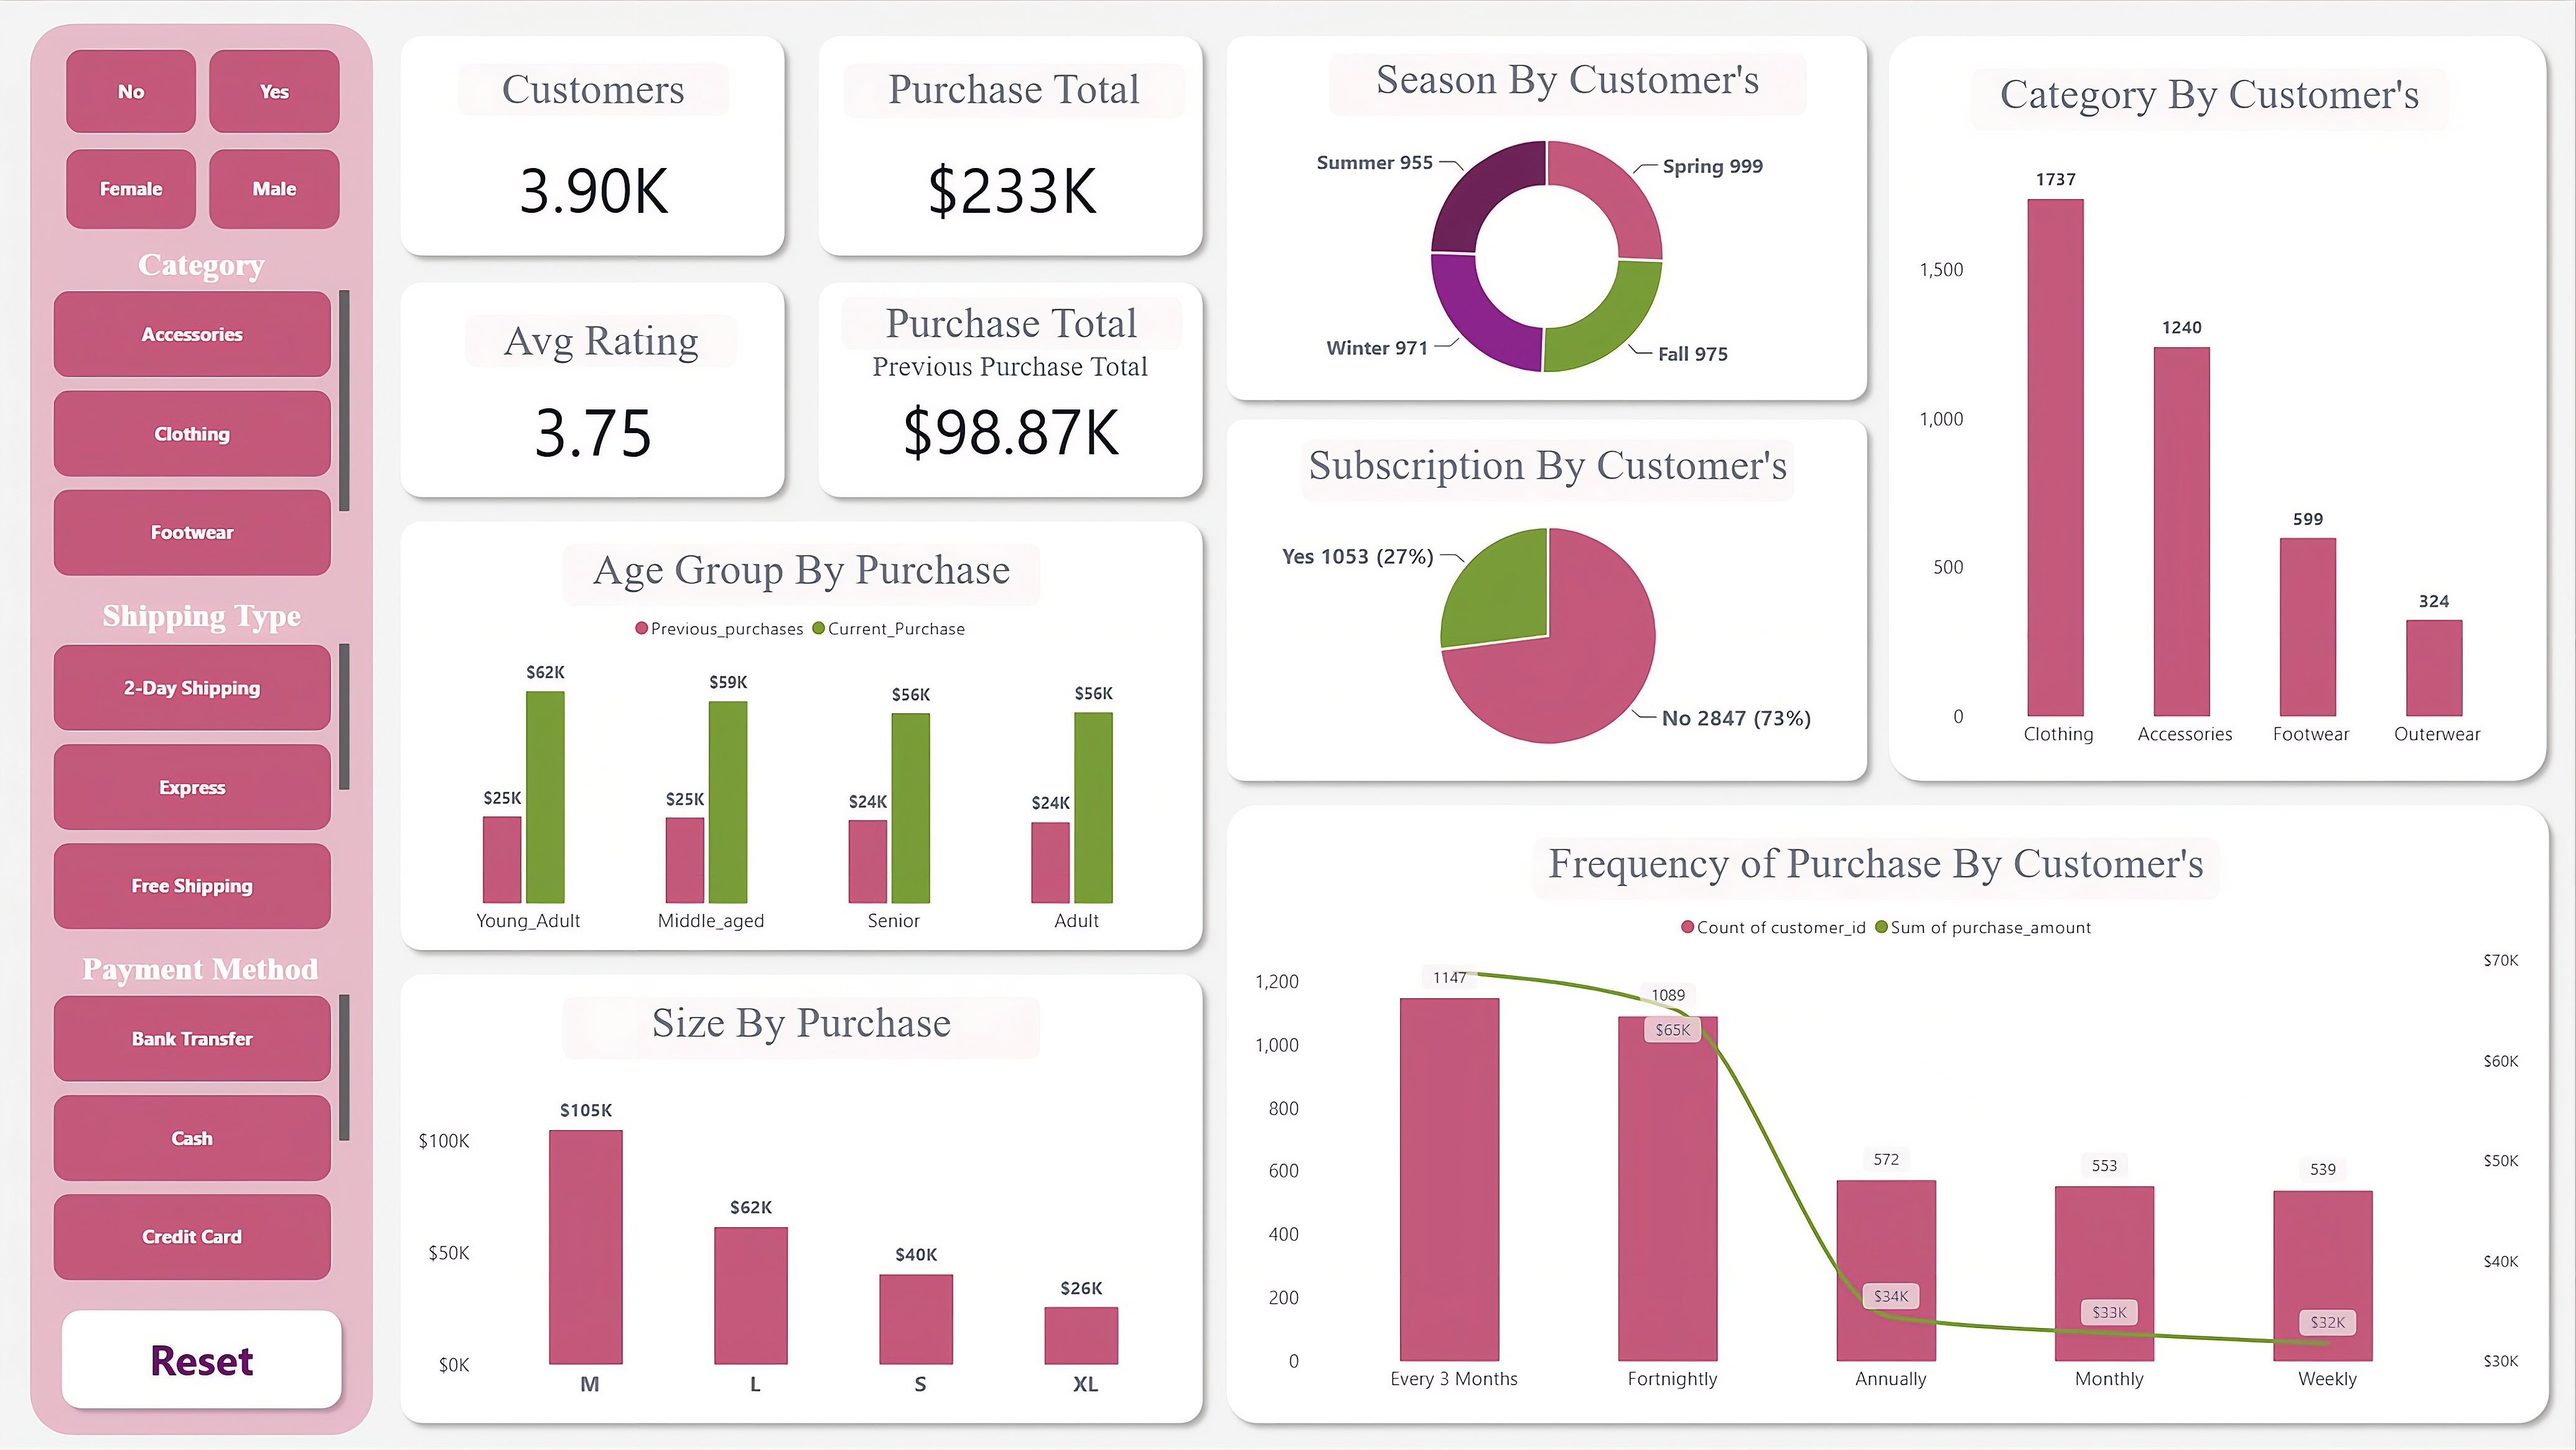

The page's visual inventory and layout, read from the dashboard file:
{"tool":"powerbi","page":{"name":"Behavior Analysis","canvas":[1920,1080],"ordinal":0},"visuals":[{"type":"shape","box":[22.1,16.7,256.2,1052.8],"z":0},{"type":"shape","box":[289,16.7,304.5,182],"z":1000},{"type":"shape","box":[289,200.6,304.5,178.3],"z":2000},{"type":"shape","box":[601,16.7,304.5,182],"z":3000},{"type":"shape","box":[601,200.5,304.5,178.3],"z":4000},{"type":"textbox","box":[341,46.4,202.4,39],"z":5000},{"type":"textbox","box":[628.8,46.4,254.4,40.9],"z":6000},{"type":"textbox","box":[346.6,234.1,202.4,39],"z":7000},{"type":"textbox","box":[634.4,260,237.7,29.7],"z":8000},{"type":"textbox","box":[627,221,254.4,39],"z":9000},{"type":"cardVisual","fields":{"Data":["Count(customer_shopping_behavior.customer_id)"]},"box":[346.6,78,191.3,120.7],"z":10000},{"type":"cardVisual","fields":{"Data":["Avg(customer_shopping_behavior.review_rating)"]},"box":[346.6,258.2,191.3,120.7],"z":11000},{"type":"cardVisual","fields":{"Data":["Sum(customer_shopping_behavior.purchase_amount)"]},"box":[658.6,78,191.3,120.7],"z":12000},{"type":"cardVisual","fields":{"Data":["Sum(customer_shopping_behavior.previous_purchases)"]},"box":[645.6,258.1,215.4,120.7],"z":13000},{"type":"shape","box":[289.7,378.8,616.5,337.9],"z":14000},{"type":"shape","box":[905.9,16.7,495.8,289.7],"z":15000},{"type":"shape","box":[906.2,590.5,1004.6,479.1],"z":16000},{"type":"shape","box":[1400.1,16.7,508.8,573.8],"z":17000},{"type":"shape","box":[906.3,302.9,495.8,287.8],"z":18000},{"type":"shape","box":[289.7,716.8,616.5,352.8],"z":19000},{"type":"columnChart","fields":{"Category":["customer_shopping_behavior.category"],"Y":["Count(customer_shopping_behavior.customer_id)"]},"box":[1414.9,98.4,480.9,479.1],"z":20000},{"type":"textbox","box":[1470.6,50.1,356.5,46.4],"z":21000},{"type":"donutChart","fields":{"Category":["customer_shopping_behavior.season"],"Y":["CountNonNull(customer_shopping_behavior.category)"]},"box":[905.9,63.1,495.8,256.2],"z":22000},{"type":"textbox","box":[991.4,39,356.5,46.4],"z":23000},{"type":"pieChart","fields":{"Category":["customer_shopping_behavior.subscription_status"],"Y":["Count(customer_shopping_behavior.customer_id)"]},"box":[906.3,354.9,497.6,239.5],"z":24000},{"type":"textbox","box":[419.7,742.7,356.5,46.4],"z":25000},{"type":"clusteredColumnChart","fields":{"Category":["customer_shopping_behavior.age_group"],"Y":["Sum(customer_shopping_behavior.previous_purchases)","Sum(customer_shopping_behavior.purchase_amount)"]},"box":[289,438.2,618.3,278.5],"z":26000},{"type":"textbox","box":[419.7,404.8,356.5,46.4],"z":27000},{"type":"lineStackedColumnComboChart","fields":{"Category":["customer_shopping_behavior.frequency_of_purchases"],"Y":["Count(customer_shopping_behavior.customer_id)"],"Y2":["Sum(customer_shopping_behavior.purchase_amount)"]},"box":[919.1,661,980.4,397.4],"z":28000},{"type":"columnChart","fields":{"Category":["customer_shopping_behavior.size"],"Y":["Sum(customer_shopping_behavior.purchase_amount)"]},"box":[294.6,792.9,610.9,271.1],"z":29000},{"type":"textbox","box":[971.3,327.1,367.7,46.4],"z":30000},{"type":"textbox","box":[1143.8,623.9,512.5,46.4],"z":31000},{"type":"advancedSlicerVisual","fields":{"Values":["customer_shopping_behavior.gender"]},"box":[48.1,109.6,206.1,61.3],"z":32000},{"type":"advancedSlicerVisual","fields":{"Values":["customer_shopping_behavior.subscription_status"]},"box":[48.1,35.3,206.1,65],"z":33000},{"type":"advancedSlicerVisual","fields":{"Values":["customer_shopping_behavior.category"]},"box":[38.9,215.9,222.8,215.4],"z":34000},{"type":"advancedSlicerVisual","fields":{"Values":["customer_shopping_behavior.shipping_type"]},"box":[39.9,479.2,222.8,215.4],"z":35000},{"type":"advancedSlicerVisual","fields":{"Values":["customer_shopping_behavior.payment_method"]},"box":[39,740.9,222.8,215.4],"z":36000},{"type":"textbox","box":[94.6,182,111.4,27.9],"z":37000},{"type":"textbox","box":[75.1,444,152.3,27.9],"z":38000},{"type":"textbox","box":[55.8,707.5,187.5,33.4],"z":39000},{"type":"actionButton","box":[39,969.3,222.8,87.3],"z":40000}]}

Visuals, with their boxes in screenshot pixels (x1, y1, x2, y2), scaled from the page's 1920x1080 canvas onto the 2576x1450 screenshot:
shape: [left=30, top=22, right=373, bottom=1436]
shape: [left=388, top=22, right=796, bottom=267]
shape: [left=388, top=269, right=796, bottom=508]
shape: [left=806, top=22, right=1215, bottom=267]
shape: [left=806, top=269, right=1215, bottom=508]
textbox: [left=457, top=62, right=729, bottom=115]
textbox: [left=844, top=62, right=1185, bottom=117]
textbox: [left=465, top=314, right=737, bottom=367]
textbox: [left=851, top=349, right=1170, bottom=389]
textbox: [left=841, top=297, right=1183, bottom=349]
cardVisual - Count(customer_shopping_behavior.customer_id): [left=465, top=105, right=722, bottom=267]
cardVisual - Avg(customer_shopping_behavior.review_rating): [left=465, top=347, right=722, bottom=508]
cardVisual - Sum(customer_shopping_behavior.purchase_amount): [left=884, top=105, right=1141, bottom=267]
cardVisual - Sum(customer_shopping_behavior.previous_purchases): [left=866, top=347, right=1155, bottom=508]
shape: [left=389, top=508, right=1216, bottom=962]
shape: [left=1215, top=22, right=1880, bottom=411]
shape: [left=1216, top=793, right=2564, bottom=1436]
shape: [left=1878, top=22, right=2561, bottom=793]
shape: [left=1216, top=406, right=1881, bottom=793]
shape: [left=389, top=962, right=1216, bottom=1436]
columnChart - customer_shopping_behavior.category x Count(customer_shopping_behavior.customer_id): [left=1898, top=132, right=2544, bottom=775]
textbox: [left=1973, top=67, right=2452, bottom=129]
donutChart - customer_shopping_behavior.season x CountNonNull(customer_shopping_behavior.category): [left=1215, top=85, right=1880, bottom=429]
textbox: [left=1330, top=52, right=1808, bottom=115]
pieChart - customer_shopping_behavior.subscription_status x Count(customer_shopping_behavior.customer_id): [left=1216, top=477, right=1883, bottom=798]
textbox: [left=563, top=997, right=1042, bottom=1059]
clusteredColumnChart - customer_shopping_behavior.age_group x Sum(customer_shopping_behavior.previous_purchases): [left=388, top=588, right=1217, bottom=962]
textbox: [left=563, top=543, right=1042, bottom=606]
lineStackedColumnComboChart - customer_shopping_behavior.frequency_of_purchases x Count(customer_shopping_behavior.customer_id): [left=1233, top=887, right=2549, bottom=1421]
columnChart - customer_shopping_behavior.size x Sum(customer_shopping_behavior.purchase_amount): [left=395, top=1065, right=1215, bottom=1428]
textbox: [left=1303, top=439, right=1796, bottom=502]
textbox: [left=1534, top=838, right=2222, bottom=900]
advancedSlicerVisual - customer_shopping_behavior.gender: [left=65, top=147, right=341, bottom=230]
advancedSlicerVisual - customer_shopping_behavior.subscription_status: [left=65, top=47, right=341, bottom=134]
advancedSlicerVisual - customer_shopping_behavior.category: [left=52, top=290, right=351, bottom=579]
advancedSlicerVisual - customer_shopping_behavior.shipping_type: [left=54, top=643, right=352, bottom=933]
advancedSlicerVisual - customer_shopping_behavior.payment_method: [left=52, top=994, right=352, bottom=1284]
textbox: [left=127, top=245, right=276, bottom=282]
textbox: [left=101, top=596, right=305, bottom=634]
textbox: [left=75, top=950, right=327, bottom=994]
actionButton: [left=52, top=1301, right=352, bottom=1419]
